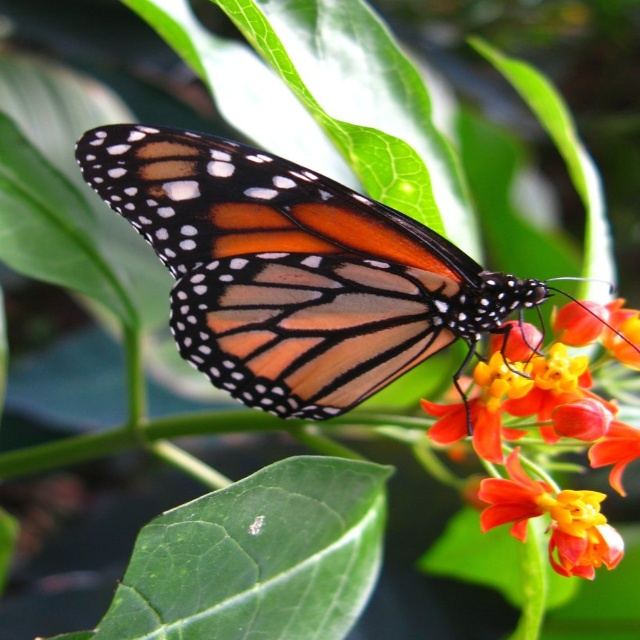Butterfly: (74, 122, 640, 438)
